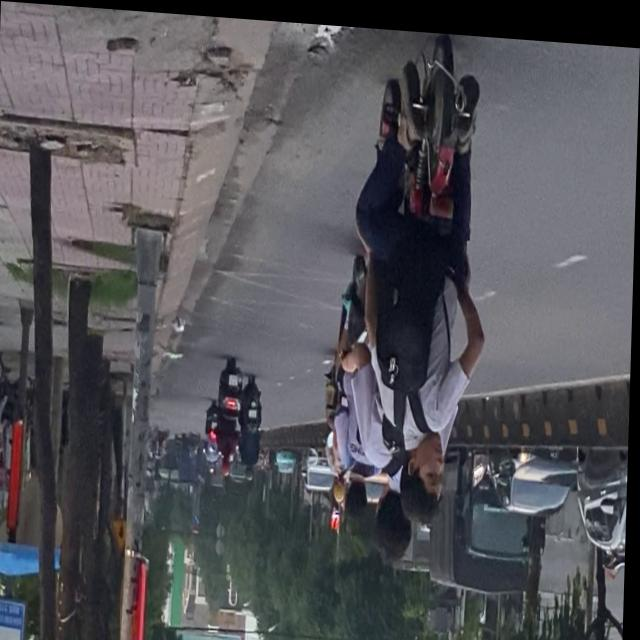licenseplate: (328, 20, 497, 566)
motorcyclist: (401, 423, 449, 521), (375, 476, 419, 560)
